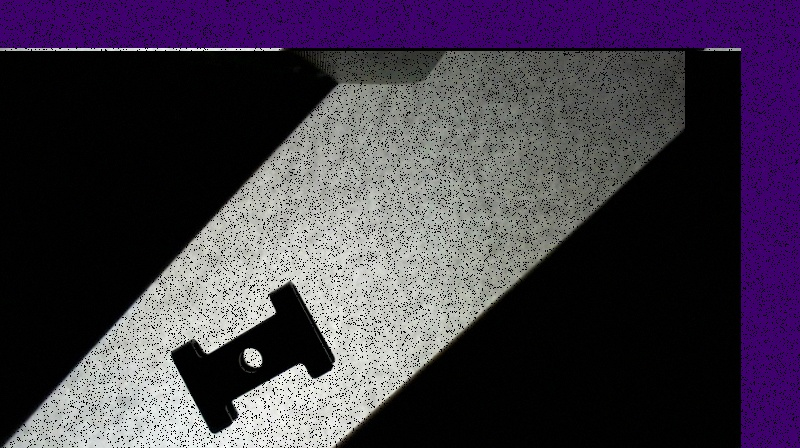O002: (168, 277, 339, 435)
